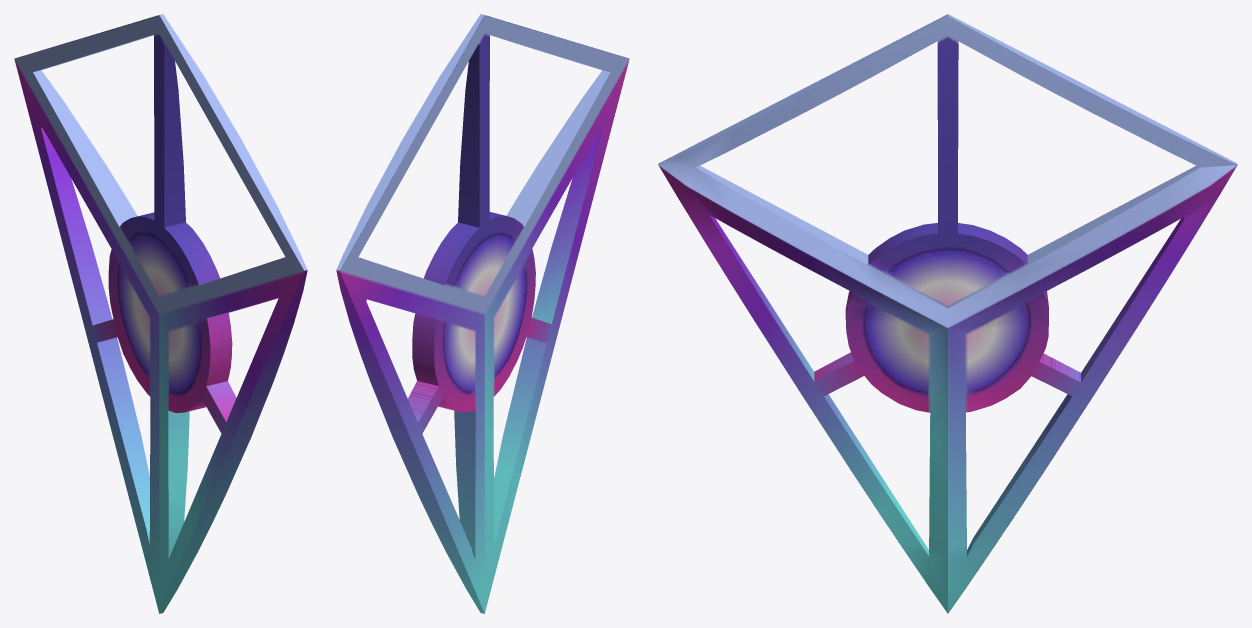
File: Pin_Metagame.glb
3 views of the same model, side by side, from view 1: azimuth 30°, elevation 25°; view 2: azimuth 150°, elevation 25°; view 3: azimuth 270°, elevation 25° (orthographic).
Visible parts, largest first — view 1: image_trianglething; view 2: image_trianglething; view 3: image_trianglething.
Boxes of the visible parts, <box> form: image_trianglething: <box>14,14,307,613</box>; image_trianglething: <box>336,14,629,613</box>; image_trianglething: <box>658,14,1237,613</box>.
Size of the model in its own units: 0.0545 by 1 by 0.8777.
Materials: 1 (1 with a texture image).
